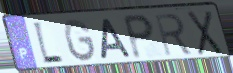A: (100, 17, 134, 61)
G: (62, 18, 99, 64)
L: (31, 20, 66, 67)
P: (121, 13, 156, 61)
R: (153, 12, 194, 58)
X: (185, 9, 225, 57)
